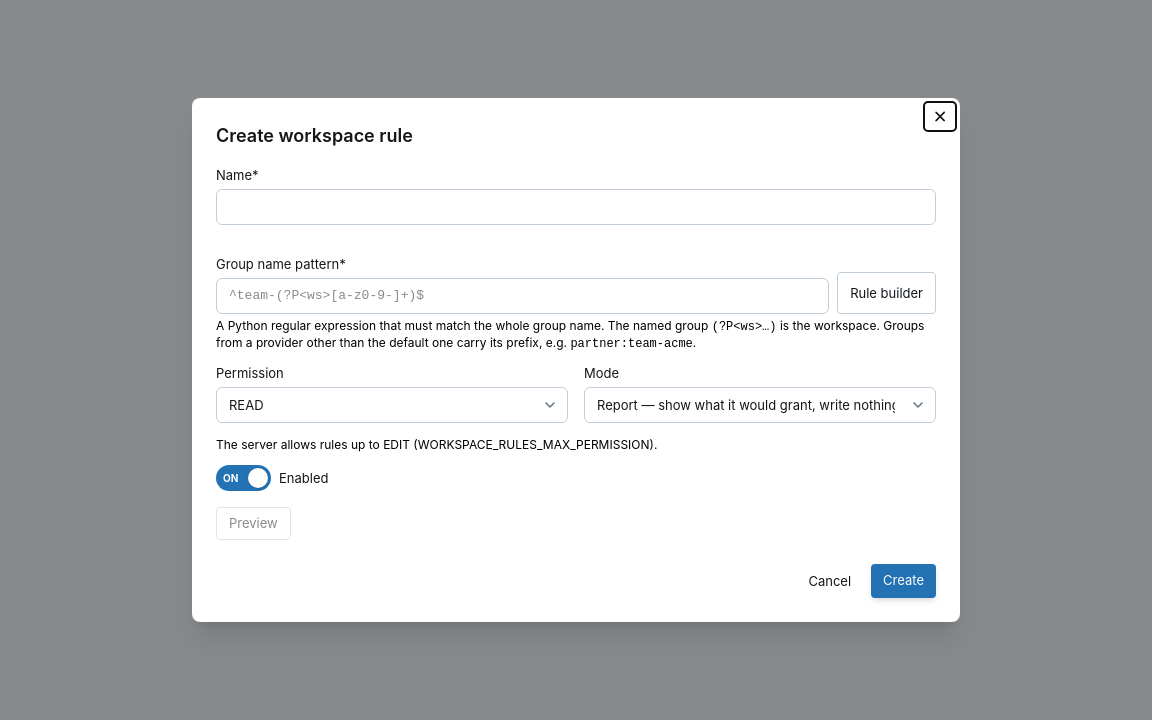
Scenario: WorkspaceRuleModal › ignores a preview that lands after the pattern changed
Step 1. Type "^team-(?P<ws>.+)$" into the field labelled "Group name pattern*" → (523, 296), box [216,278,829,314]
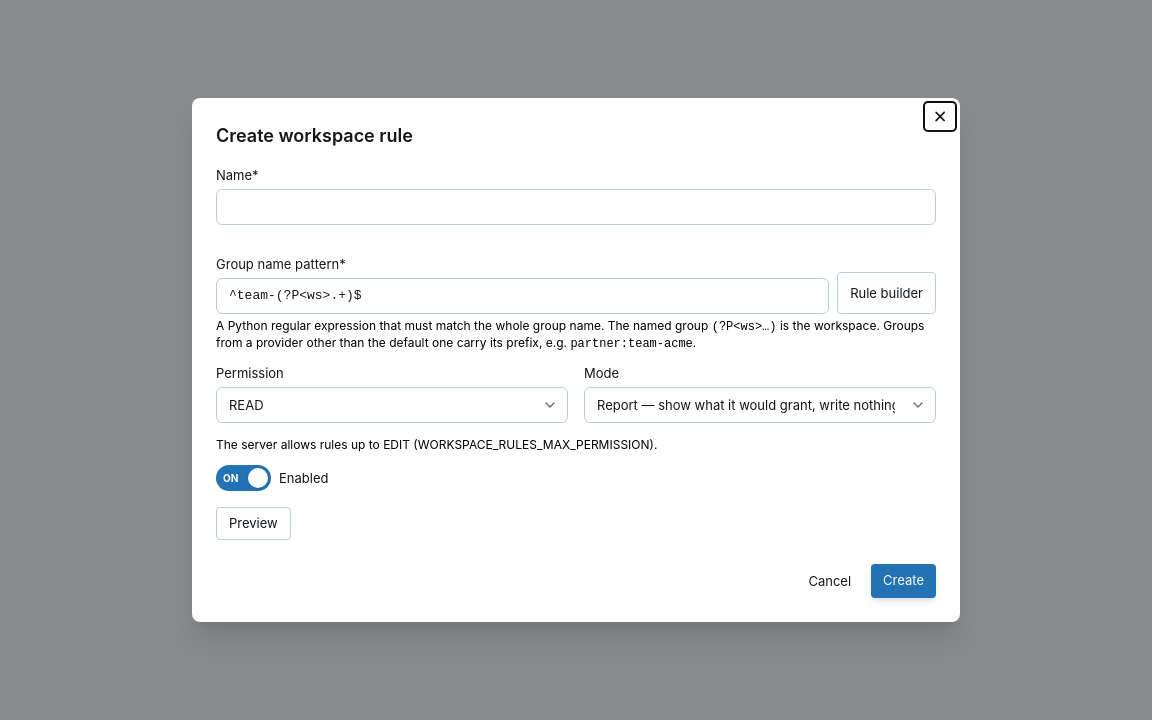
Step 2. Click the button "Preview" → (253, 523), box [216,507,291,540]
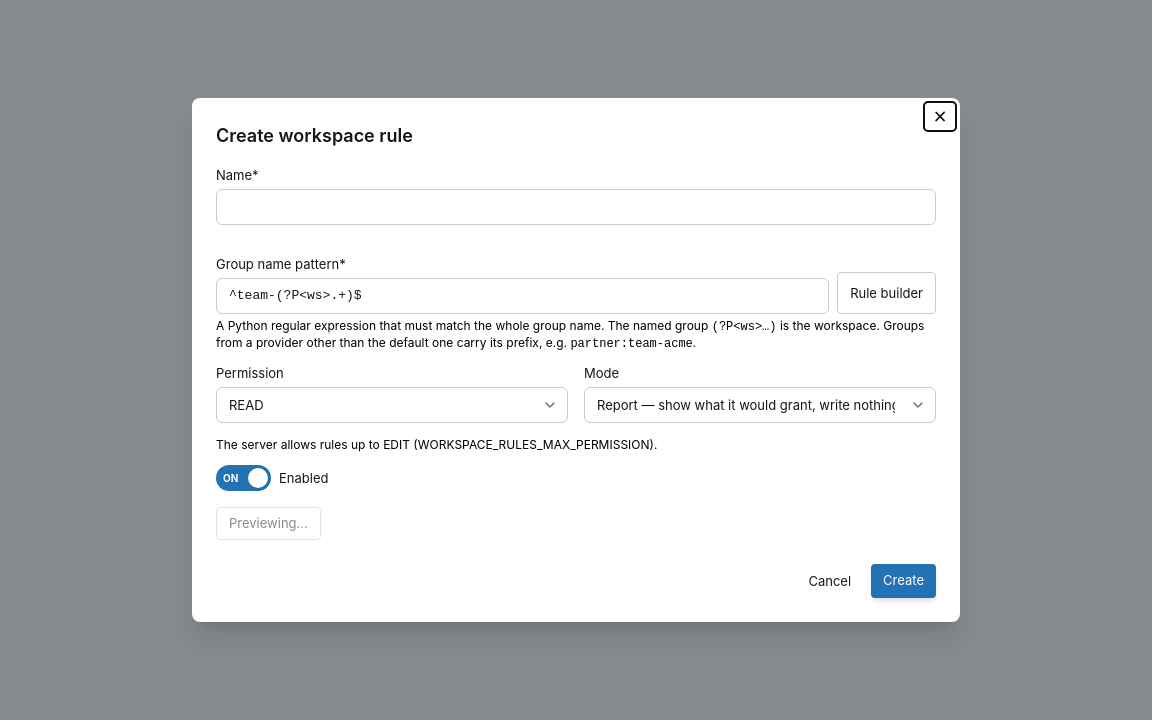
Step 3. Replace the text in the field labelled "Group name pattern*" with "^team-(?P<ws>acme)$" → (523, 296), box [216,278,829,314]
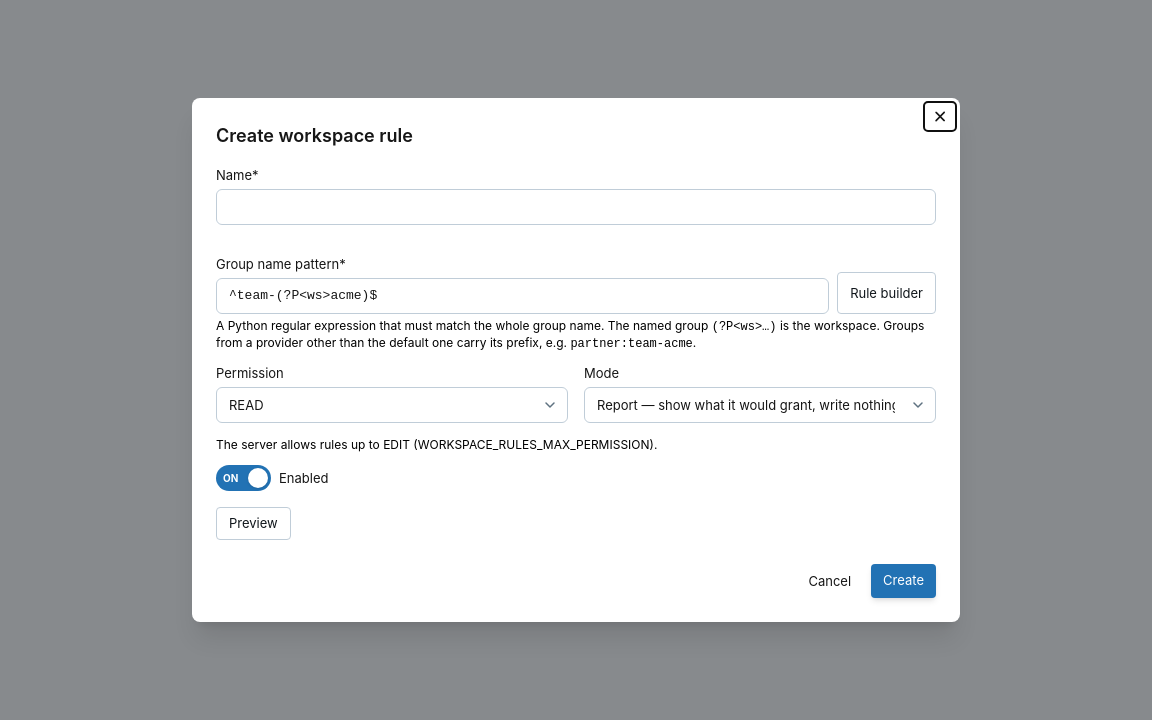
Expected: the button "Preview" is enabled, [216,507,291,540]
